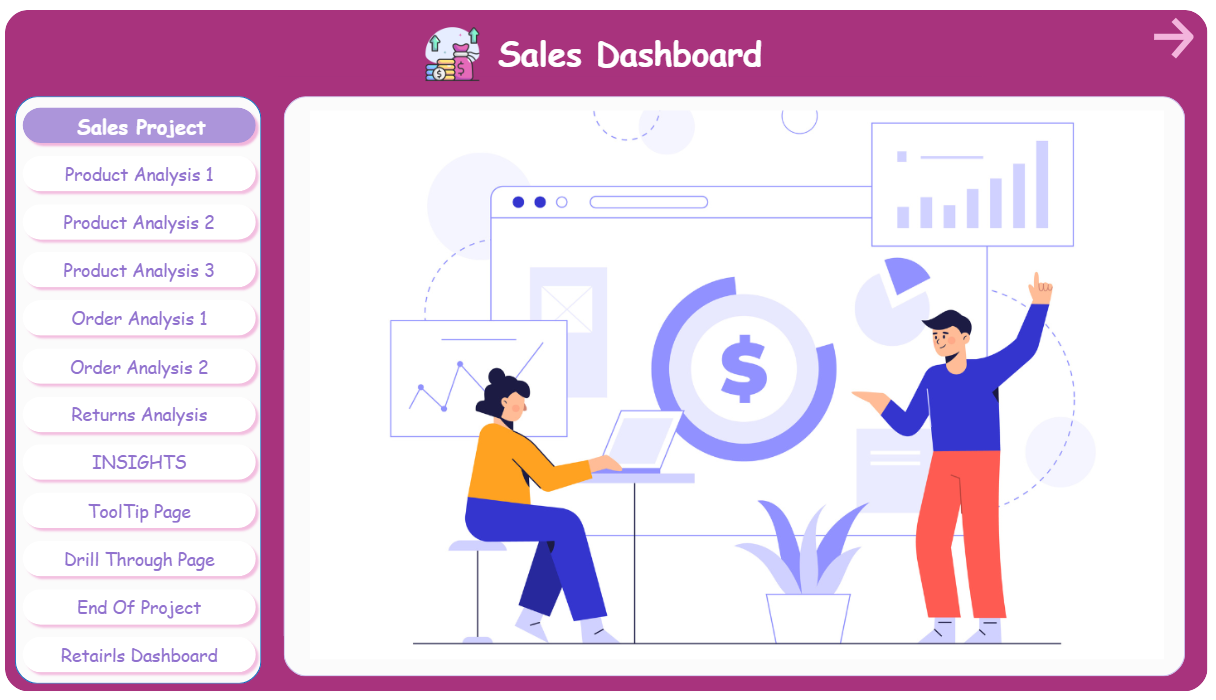

The page's visual inventory and layout, read from the dashboard file:
{"tool":"powerbi","page":{"name":"Sales Project","canvas":[1400,800],"ordinal":0},"visuals":[{"type":"shape","box":[11.4,11.4,1374.3,778.6],"z":0},{"type":"shape","box":[22.9,110,281.4,671.4],"z":1000,"group":"g1"},{"type":"textbox","title":"Sales Dashboard","box":[318.3,34,814.3,52.9],"z":2000},{"type":"pageNavigator","box":[24.3,115.7,281.4,665.7],"z":2000,"group":"g1"},{"type":"image","box":[486.9,21.1,71.4,80],"z":3000},{"type":"actionButton","box":[1305.7,15.7,80,55.7],"z":4000},{"type":"group","id":"g1","title":"Group 1","box":[22.9,110,282.9,671.4],"z":5000},{"type":"shape","box":[330,110,1030,662.9],"z":6000},{"type":"image","box":[345.7,121.4,1004.3,637.1],"z":7000}]}

Visuals, with their boxes in screenshot pixels (x1, y1, x2, y2), scaled from the page's 1400x800 canvas onto the 1216x700 screenshot:
shape: pyautogui.locateOnScreen(10, 10, 1204, 691)
shape: pyautogui.locateOnScreen(20, 96, 264, 684)
"Sales Dashboard" textbox: pyautogui.locateOnScreen(276, 30, 984, 76)
pageNavigator: pyautogui.locateOnScreen(21, 101, 266, 684)
image: pyautogui.locateOnScreen(423, 18, 485, 88)
actionButton: pyautogui.locateOnScreen(1134, 14, 1204, 62)
"Group 1" group: pyautogui.locateOnScreen(20, 96, 266, 684)
shape: pyautogui.locateOnScreen(287, 96, 1181, 676)
image: pyautogui.locateOnScreen(300, 106, 1173, 664)
